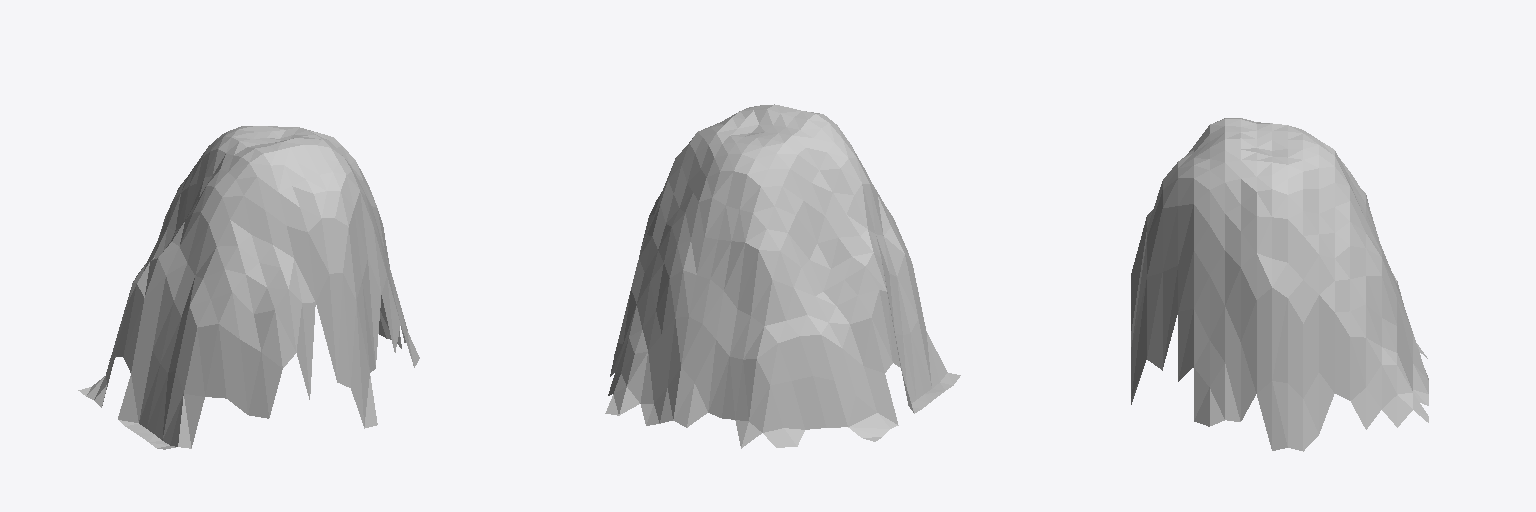
Rendered from tree_14.obj.
3 views of the same model, side by side, from view 1: azimuth 30°, elevation 25°; view 2: azimuth 150°, elevation 25°; view 3: azimuth 270°, elevation 25° (orthographic).
Parts seen in each view (by area): view 1: tree_14.001; view 2: tree_14.001; view 3: tree_14.001.
Boxes of the visible parts, x1=… form: tree_14.001: x1=78, y1=126, x2=419, y2=449; tree_14.001: x1=605, y1=104, x2=960, y2=448; tree_14.001: x1=1131, y1=118, x2=1428, y2=451.
Size of the model in its own units: 21 by 17.96 by 19.